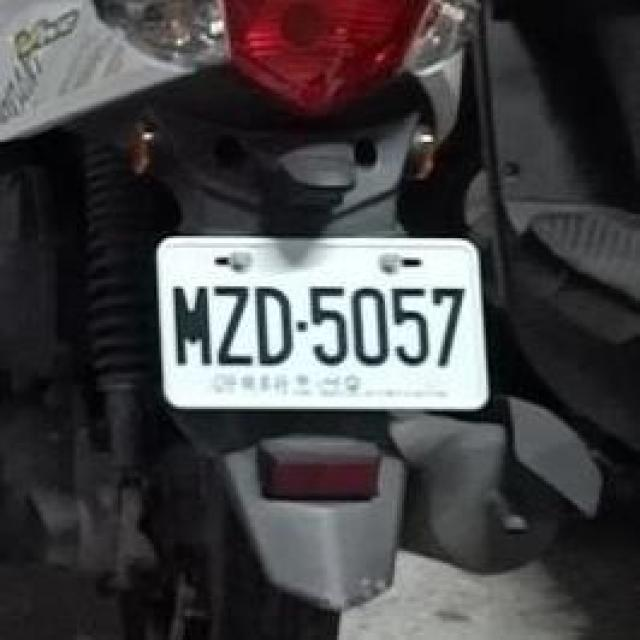W: (144, 224, 493, 421)
